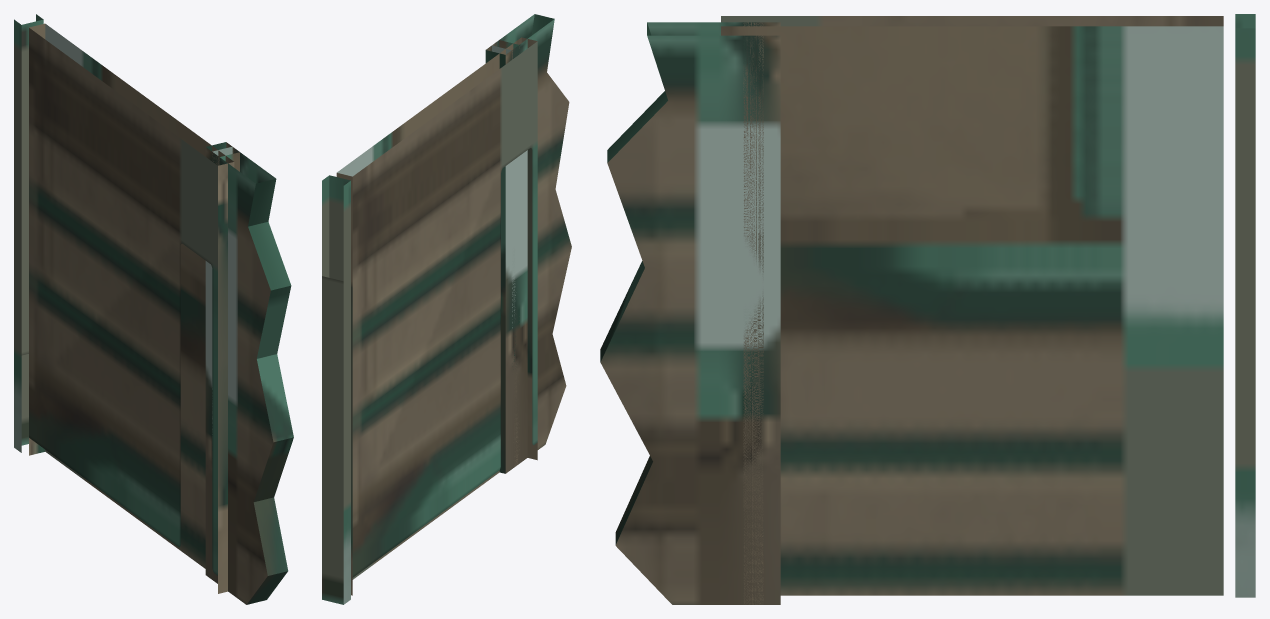
File: section-4.obj
3 renders of one model, left to right at view 1: azimuth 30°, elevation 25°; view 2: azimuth 150°, elevation 25°; view 3: azimuth 270°, elevation 25°, orthographic. The views are drawn at different scales.
Bounding box in the file's own units: 0.082 × 1 × 1.04.
